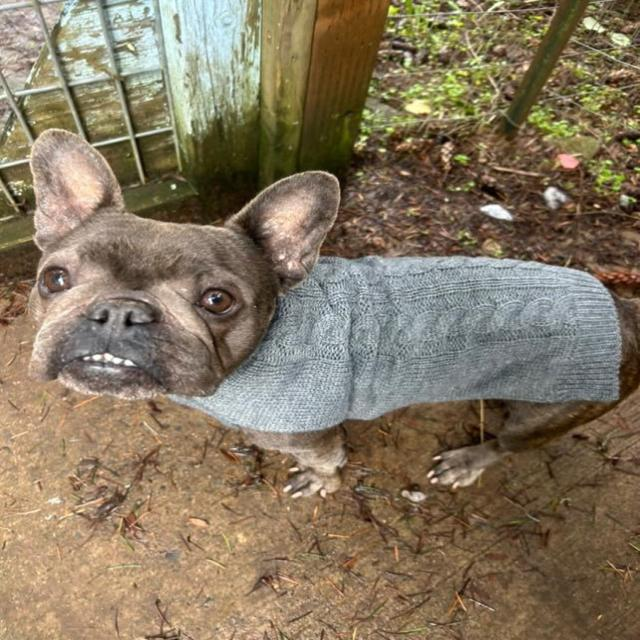french_bulldog_dog: (16, 117, 350, 417)
